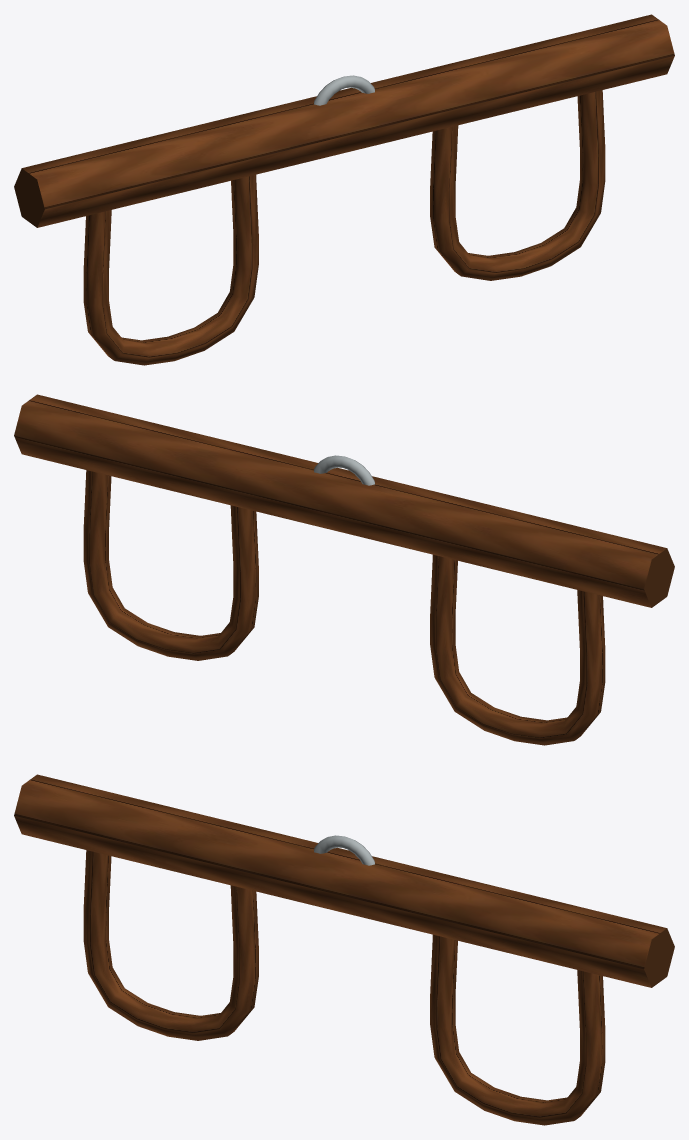
Rendered from creature-husbandry-and-transport-transport-yoke-3427d24e__24022.glb.
The picture shows the model from 3 angles, top to bottom: view 1: azimuth 30°, elevation 25°; view 2: azimuth 150°, elevation 25°; view 3: azimuth 330°, elevation 25°; orthographic projection.
Visible parts, largest first — view 1: transport-yoke; view 2: transport-yoke; view 3: transport-yoke.
Part boxes in pixels (x1,y1,x2,y2): transport-yoke: (14, 14, 674, 365); transport-yoke: (14, 394, 674, 745); transport-yoke: (14, 774, 674, 1125).
Bounding box in the file's own units: 2 × 0.7288 × 0.1699.
Materials: 2 (1 with a texture image).
